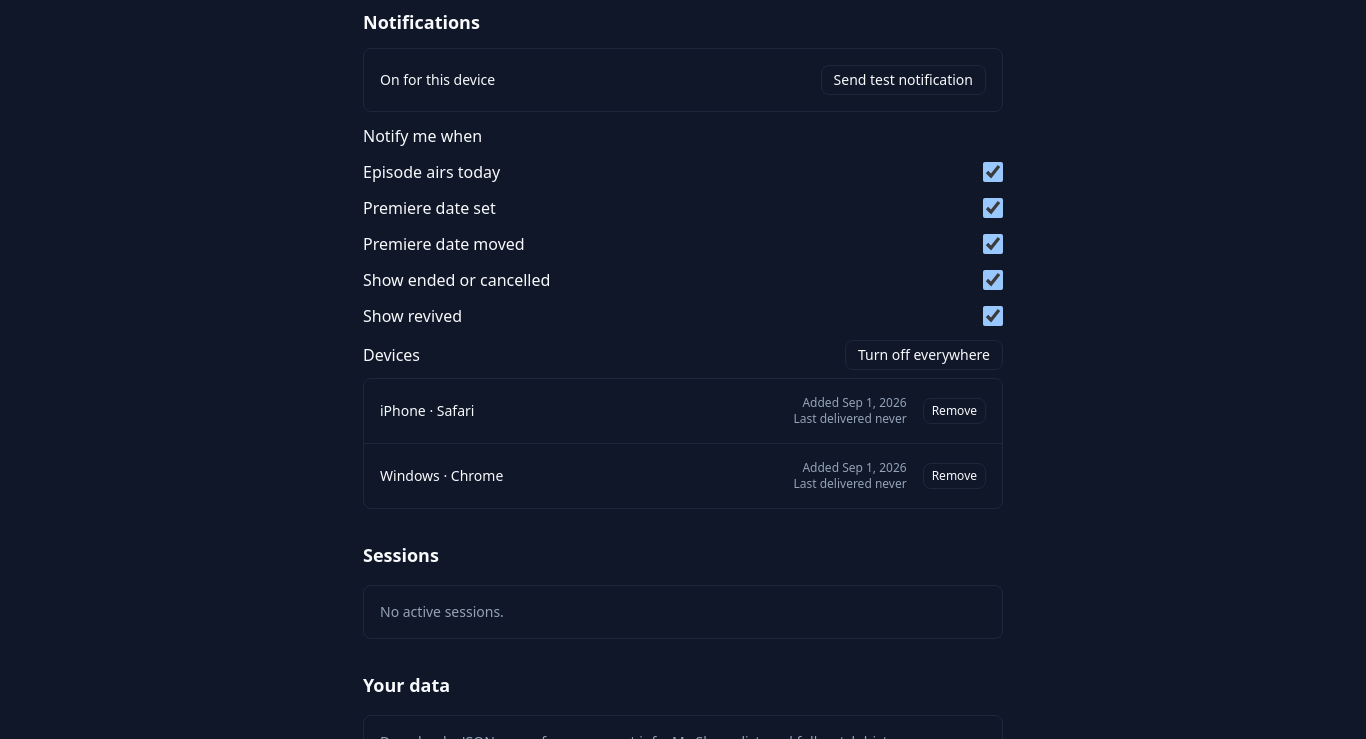
Test: Device list › turns off everywhere after confirming, locally too
(page scrolled)
Click the button "Turn off everywhere". click: (924, 355)
box: left=845, top=340, right=1003, bottom=370
(page scrolled)
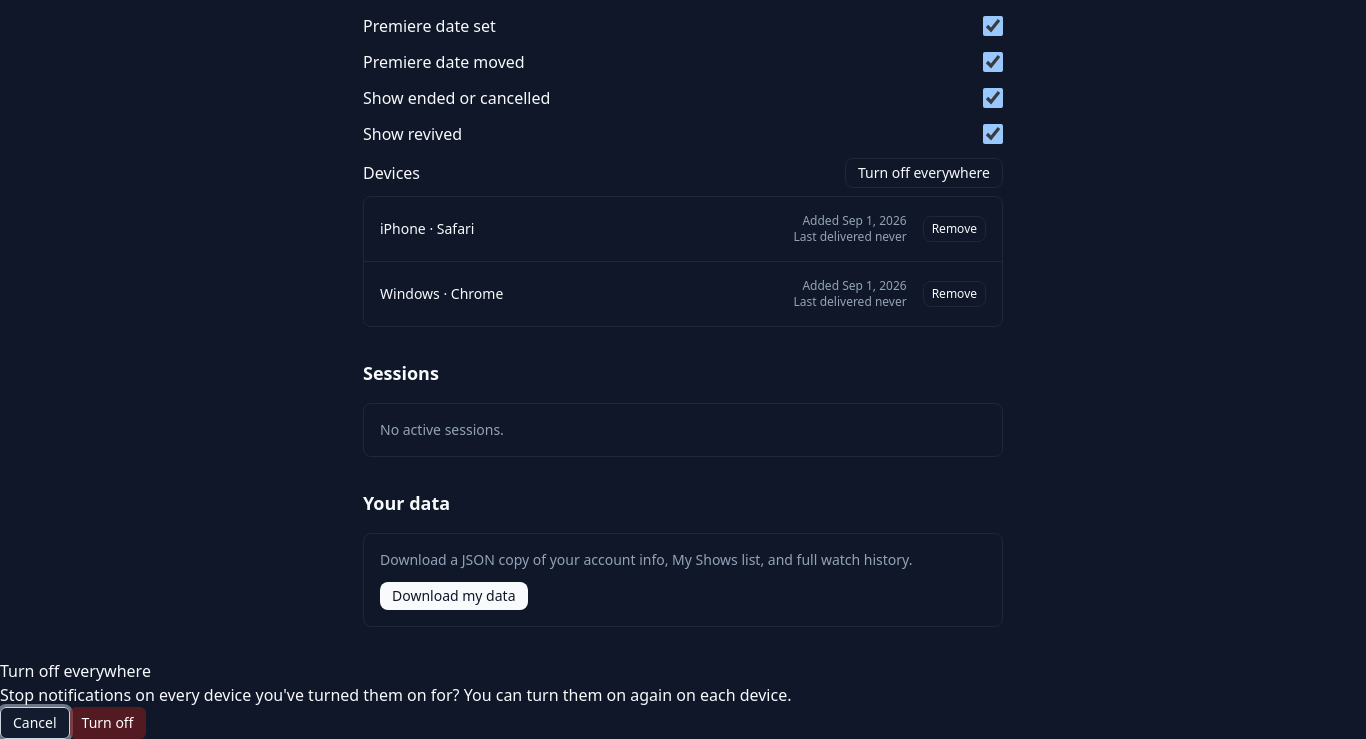
Click the button "Turn off". click: (108, 723)
box: left=70, top=707, right=146, bottom=738
(page scrolled)
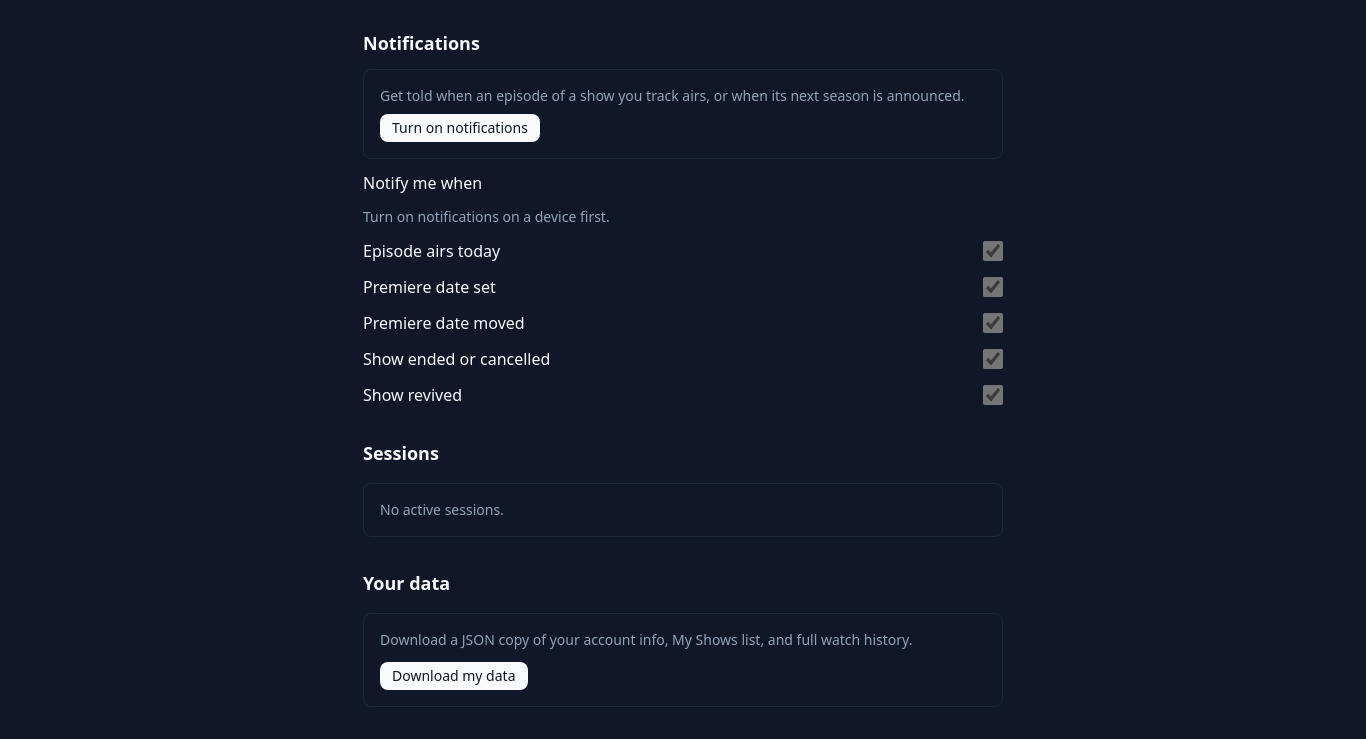
Now the heading "Devices" is gone
Now the button "Turn on notifications" is shown, box left=380, top=114, right=540, bottom=142
Now the text "Turn on notifications on a device first." is shown, box left=363, top=207, right=610, bottom=226
